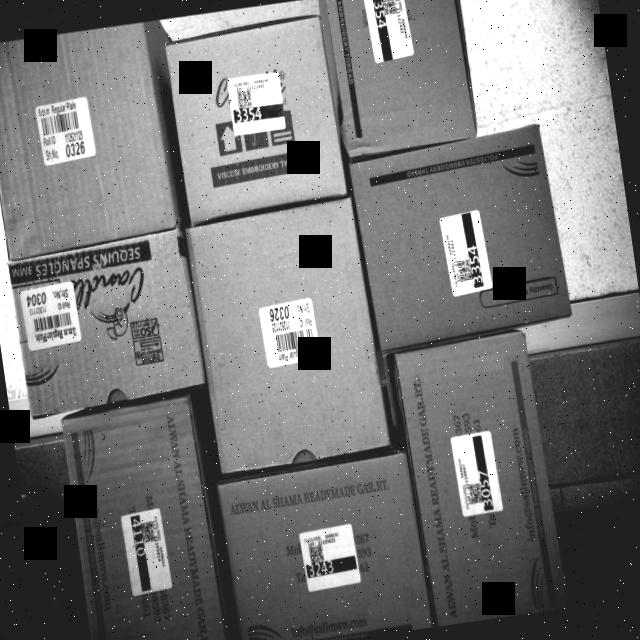box: (188, 200, 389, 470), (354, 122, 570, 352), (398, 338, 566, 626), (0, 20, 180, 250), (215, 454, 434, 640), (62, 403, 233, 640), (6, 226, 210, 414), (165, 16, 348, 216), (319, 0, 478, 154)
